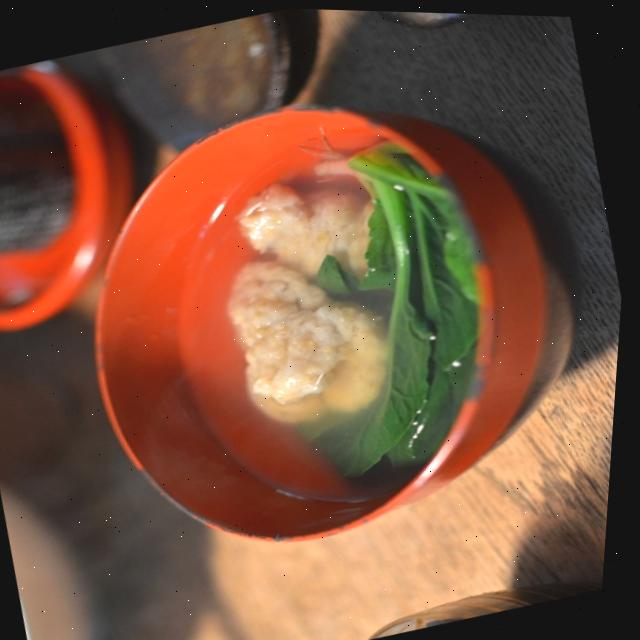汤锅炖物: (95, 68, 568, 553)
